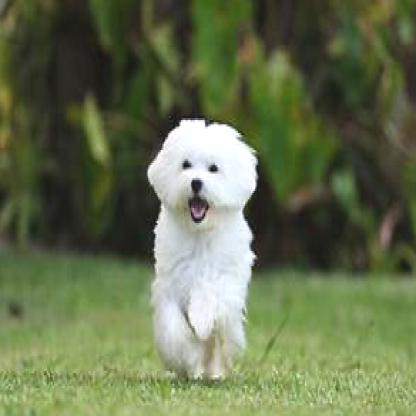dog: (147, 118, 259, 379)
